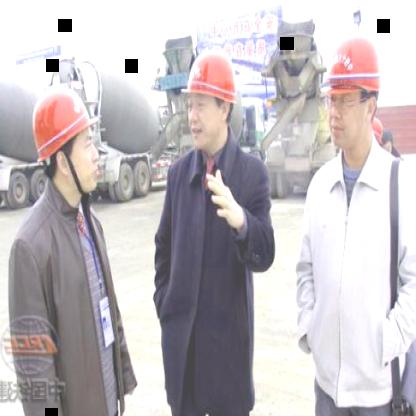helmet: (33, 82, 101, 202), (319, 36, 386, 155), (182, 47, 238, 149)
